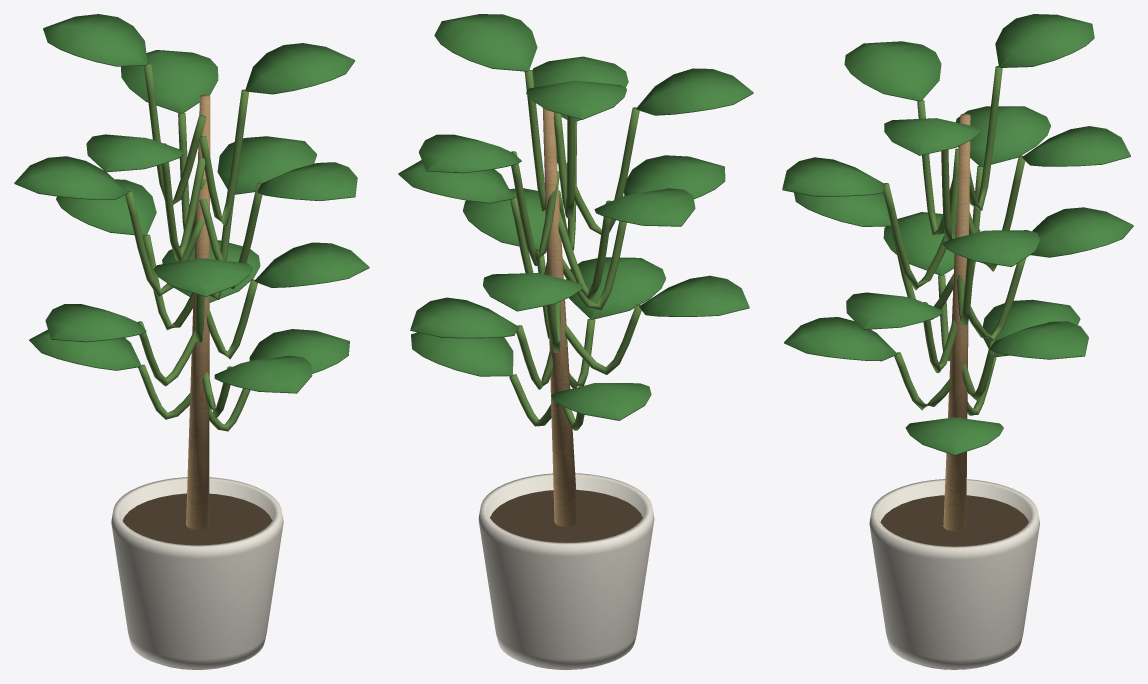
Rendered from fiddle.glb.
3 views of the same model, side by side, from view 1: azimuth 30°, elevation 25°; view 2: azimuth 150°, elevation 25°; view 3: azimuth 270°, elevation 25° (orthographic). The views are drawn at different scales.
Parts seen in each view (by area): view 1: Broad sculpted foliage, Plain ceramic planter, Fig woody stem, Soil surface, Leaf petiole.013, Leaf petiole.012, Leaf petiole.014, Leaf petiole.009, Leaf petiole.010, Leaf petiole.005, Leaf petiole.004, Leaf petiole.006 (+4 smaller); view 2: Broad sculpted foliage, Plain ceramic planter, Fig woody stem, Soil surface, Leaf petiole.014, Leaf petiole.011, Leaf petiole.009, Leaf petiole.012, Leaf petiole.013, Leaf petiole.004, Leaf petiole.007, Leaf petiole.003 (+5 smaller); view 3: Broad sculpted foliage, Plain ceramic planter, Fig woody stem, Soil surface, Leaf petiole.014, Leaf petiole.010, Leaf petiole.013, Leaf petiole.006, Leaf petiole.012, Leaf petiole.005, Leaf petiole.011, Leaf petiole.008 (+3 smaller).
Part boxes in pixels (<box>): Broad sculpted foliage: <box>14,14,369,393</box>; Plain ceramic planter: <box>111,477,283,668</box>; Fig woody stem: <box>186,94,210,529</box>; Soil surface: <box>123,493,272,545</box>; Leaf petiole.013: <box>199,89,248,226</box>; Leaf petiole.012: <box>161,143,205,260</box>; Leaf petiole.014: <box>144,63,206,204</box>; Leaf petiole.009: <box>125,191,204,296</box>; Leaf petiole.010: <box>199,182,262,289</box>; Leaf petiole.005: <box>206,279,257,359</box>; Leaf petiole.004: <box>138,321,196,386</box>; Leaf petiole.006: <box>142,234,193,330</box>; Broad sculpted foliage: <box>398,14,753,420</box>; Plain ceramic planter: <box>478,473,654,668</box>; Fig woody stem: <box>542,107,577,526</box>; Soil surface: <box>490,490,642,542</box>; Leaf petiole.014: <box>554,112,575,218</box>; Leaf petiole.011: <box>511,151,559,265</box>; Leaf petiole.009: <box>558,200,611,300</box>; Leaf petiole.012: <box>556,107,639,234</box>; Leaf petiole.013: <box>524,70,557,211</box>; Leaf petiole.004: <box>565,304,641,374</box>; Leaf petiole.007: <box>562,221,626,310</box>; Leaf petiole.003: <box>516,325,552,389</box>; Broad sculpted foliage: <box>782,14,1133,455</box>; Plain ceramic planter: <box>869,479,1039,668</box>; Fig woody stem: <box>943,113,970,531</box>; Soil surface: <box>880,495,1028,546</box>; Leaf petiole.014: <box>958,66,1002,210</box>; Leaf petiole.010: <box>883,183,956,290</box>; Leaf petiole.013: <box>941,148,958,241</box>; Leaf petiole.006: <box>969,258,1026,339</box>; Leaf petiole.012: <box>917,100,952,236</box>; Leaf petiole.005: <box>923,302,956,372</box>; Leaf petiole.011: <box>969,155,1025,271</box>; Leaf petiole.008: <box>957,258,974,325</box>.
Bounding box in the file's own units: 0.8445 × 1.53 × 0.8242.
5 materials, 5 textured.
